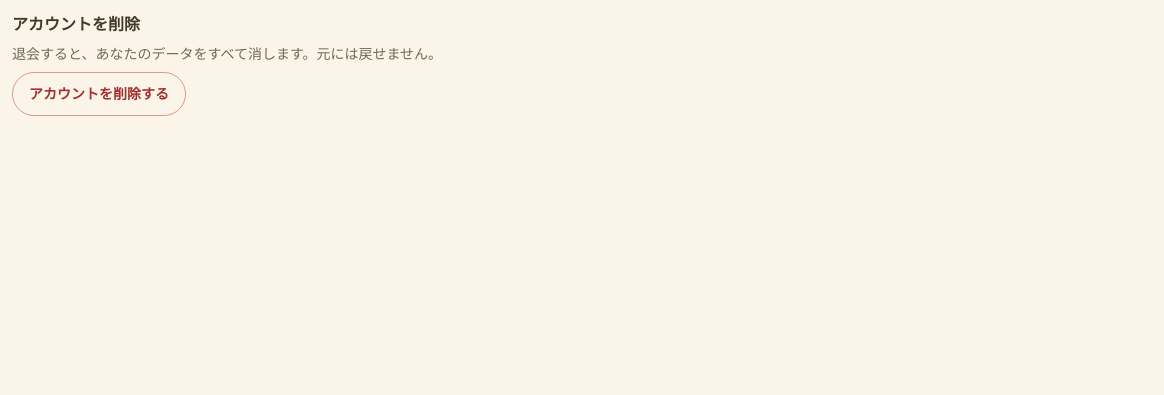
AccountDeletionSettings(退会。UIUX改装 項目40) › 失敗したら理由を出し、ログアウトしない
Click the button "アカウントを削除する" at x=99, y=94, box top-left (12, 72), bottom-right (186, 116)
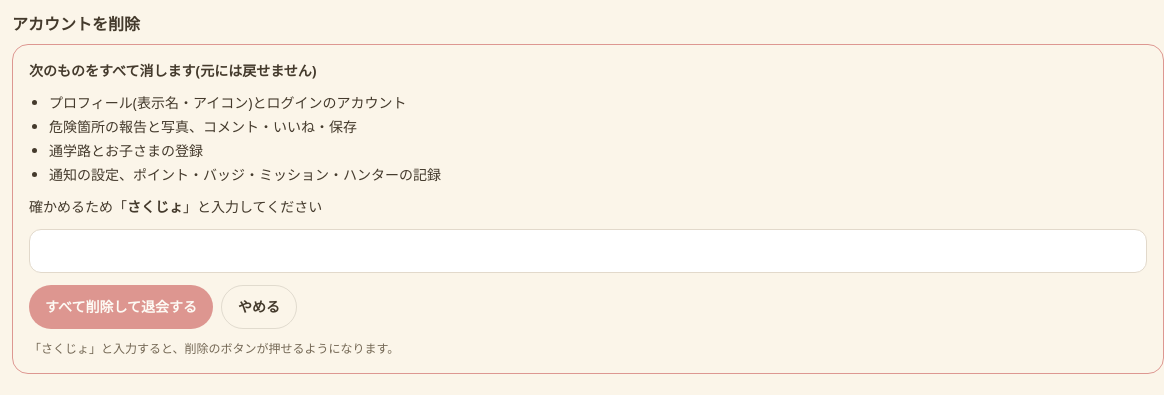
Type "さくじょ" into the field labelled "確かめるため「さくじょ」と入力してください" at x=588, y=251, box top-left (29, 229), bottom-right (1147, 273)
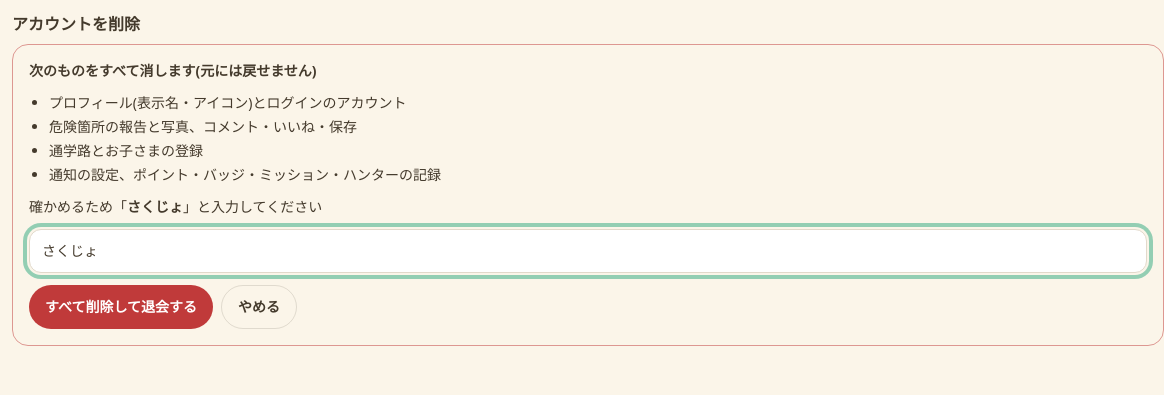
Click the button "すべて削除して退会する" at x=121, y=307, box top-left (29, 285), bottom-right (213, 329)
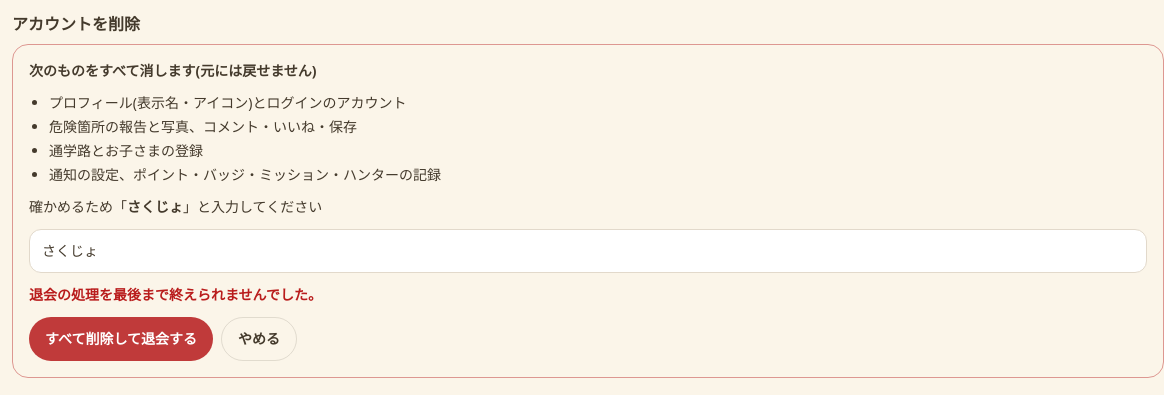
Check: the message shows "最後まで終えられませんでした", box top-left (29, 285), bottom-right (322, 304)
